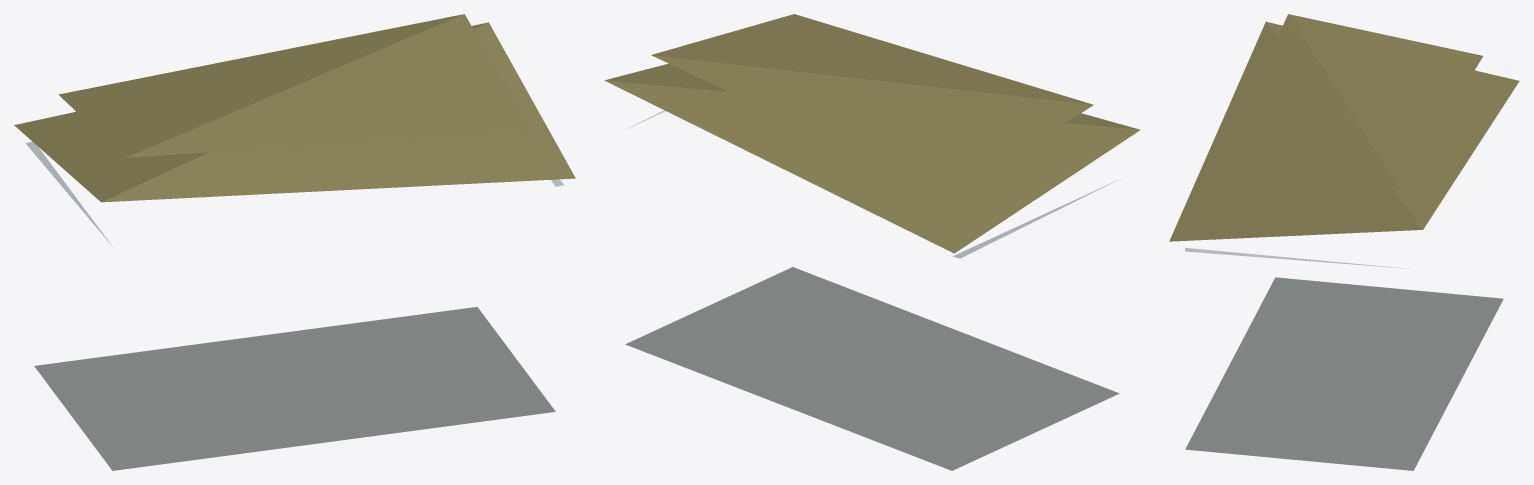
File: kiosk-ramons-coffee.lod2.glb
The picture shows the model from 3 angles, left to right: view 1: azimuth 30°, elevation 25°; view 2: azimuth 150°, elevation 25°; view 3: azimuth 270°, elevation 25°; orthographic projection. The views are drawn at different scales.
Parts seen in each view (by area): view 1: lod2; view 2: lod2; view 3: lod2.
Boxes of the visible parts, x1,y1,x2,y2 form: lod2: (14,14,575,470); lod2: (604,14,1140,470); lod2: (1169,14,1519,470).
Size of the model in its own units: 5.66 by 3.45 by 4.03.
